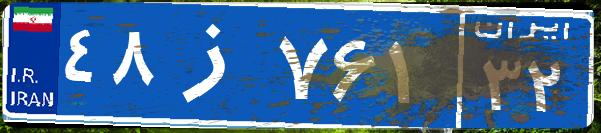1: (385, 28, 445, 110)
2: (525, 38, 570, 115)
3: (475, 38, 525, 113)
4: (57, 26, 110, 107)
6: (330, 28, 385, 110)
7: (273, 28, 330, 110)
8: (110, 28, 158, 105)
ز: (158, 15, 273, 115)
